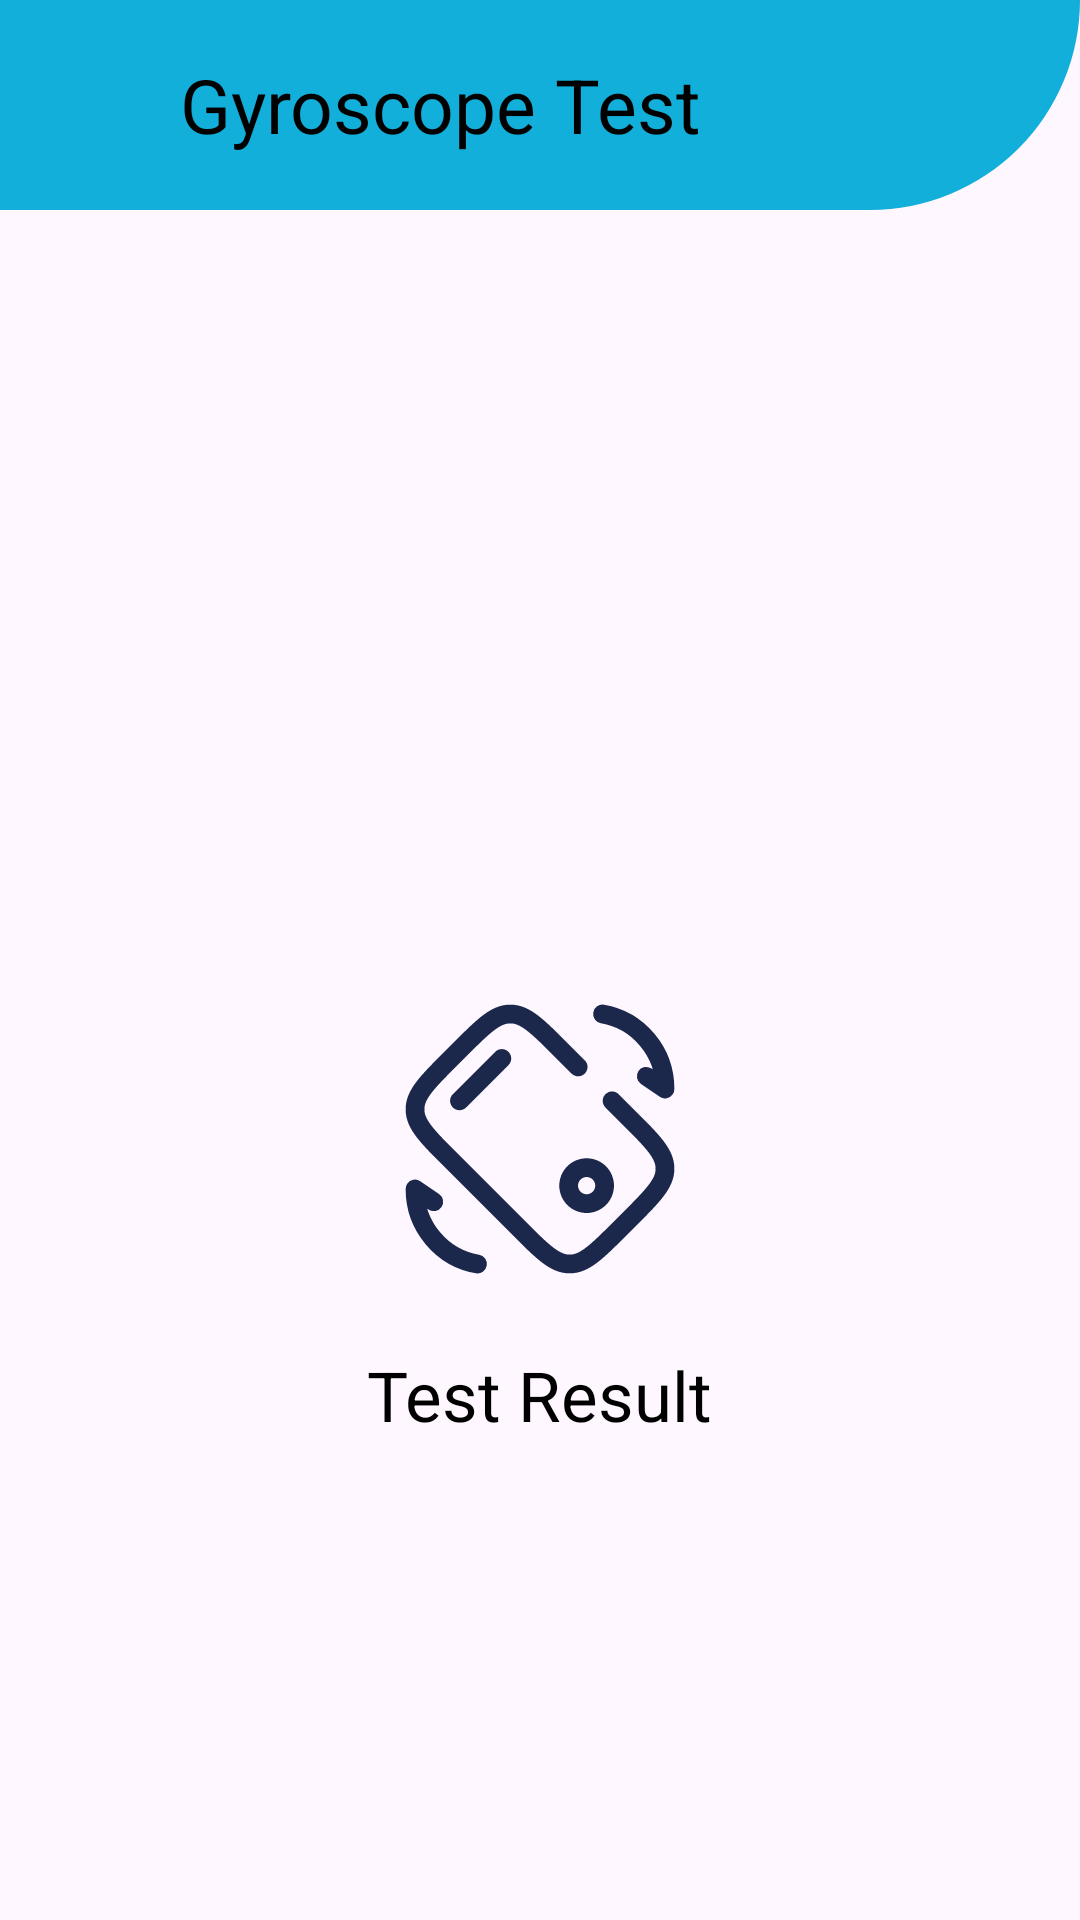

Icons on this 1080px x 1920px Android screen, each with its box as (x1, y1, x2, y2):
smartphone rotate: (405, 1004, 675, 1274)
